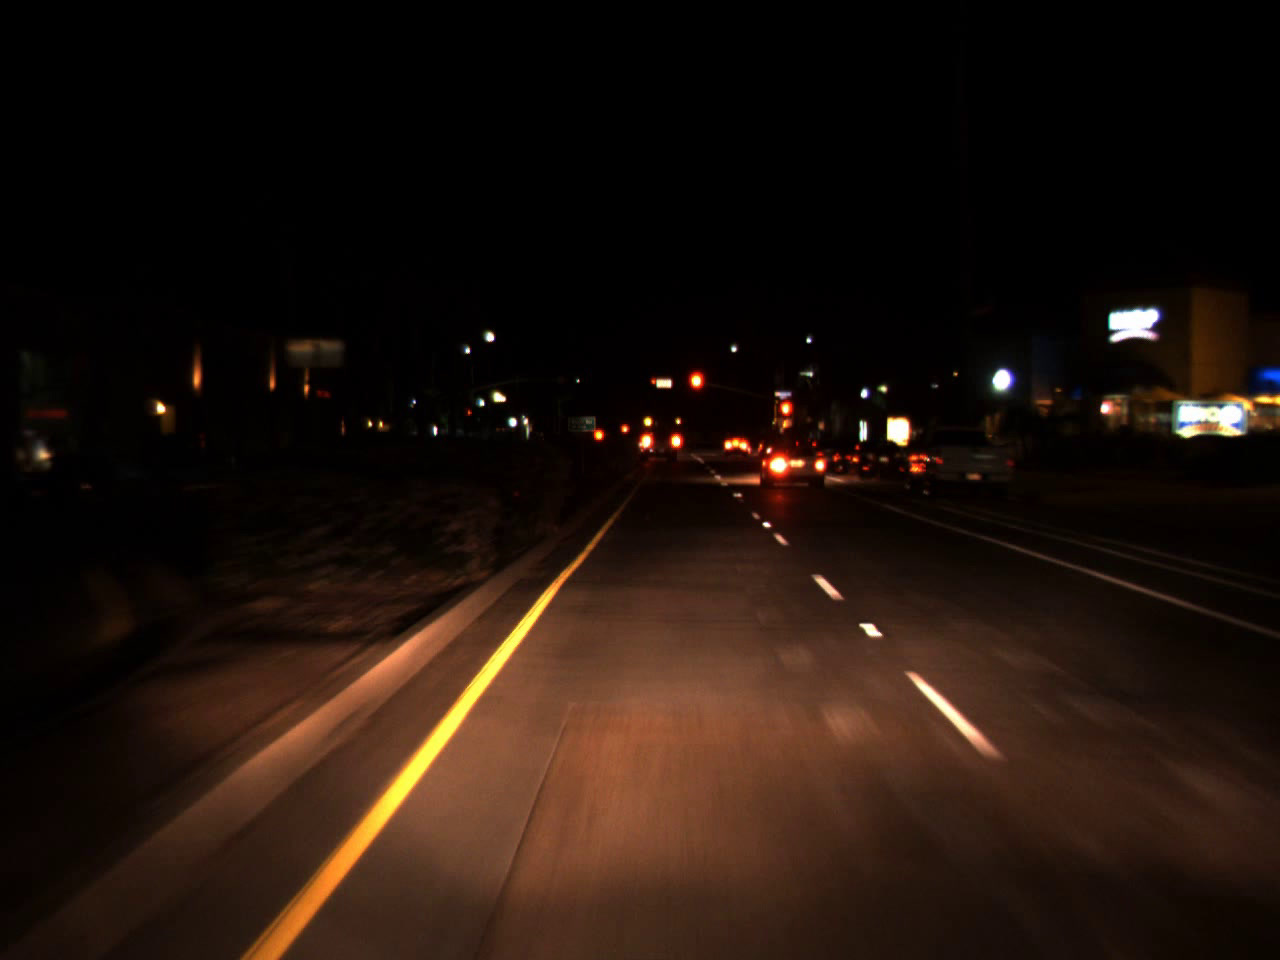stop: (686, 368, 707, 411), (777, 398, 795, 435), (650, 377, 657, 390)
